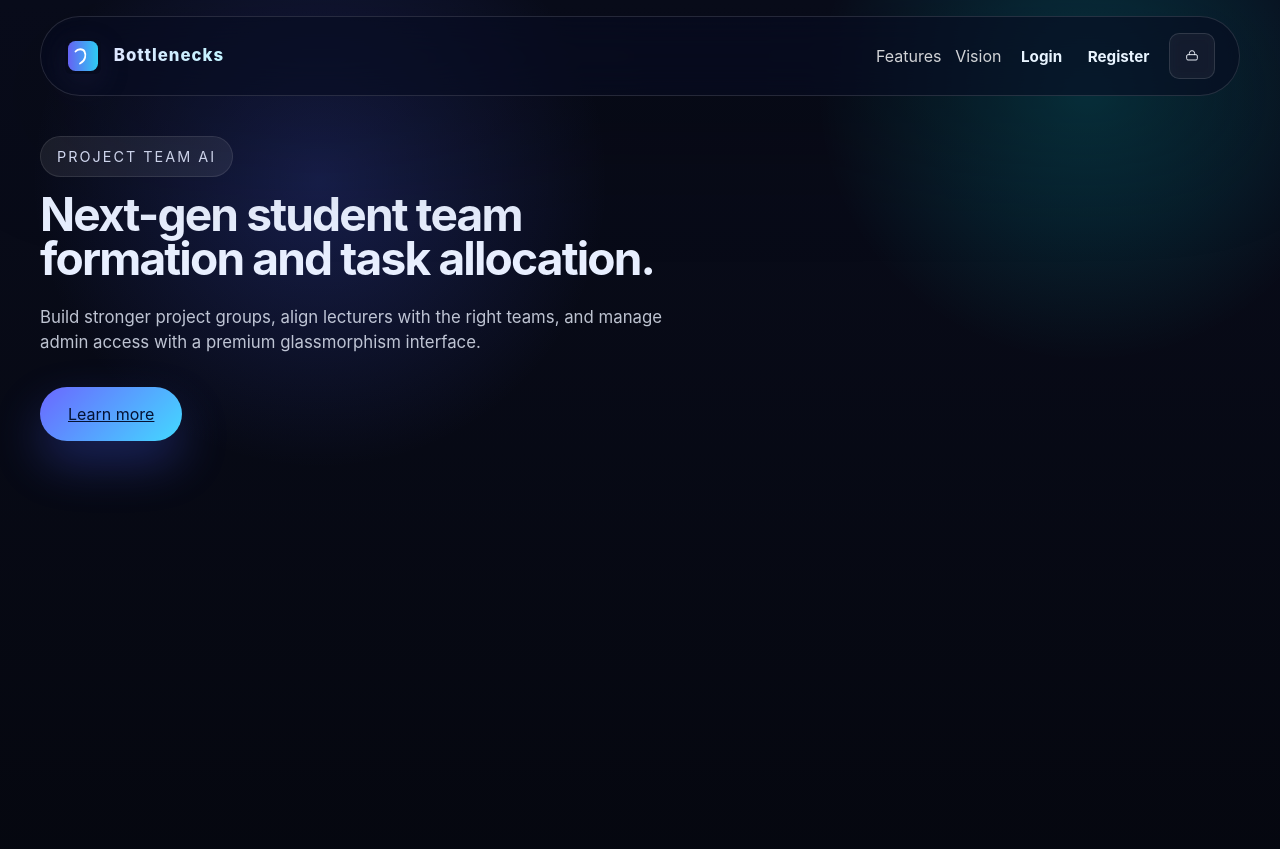
Test: App – student join project › cancels join project form
Click the button labelled "Login" at (1042, 56), box [1015, 43, 1068, 69]
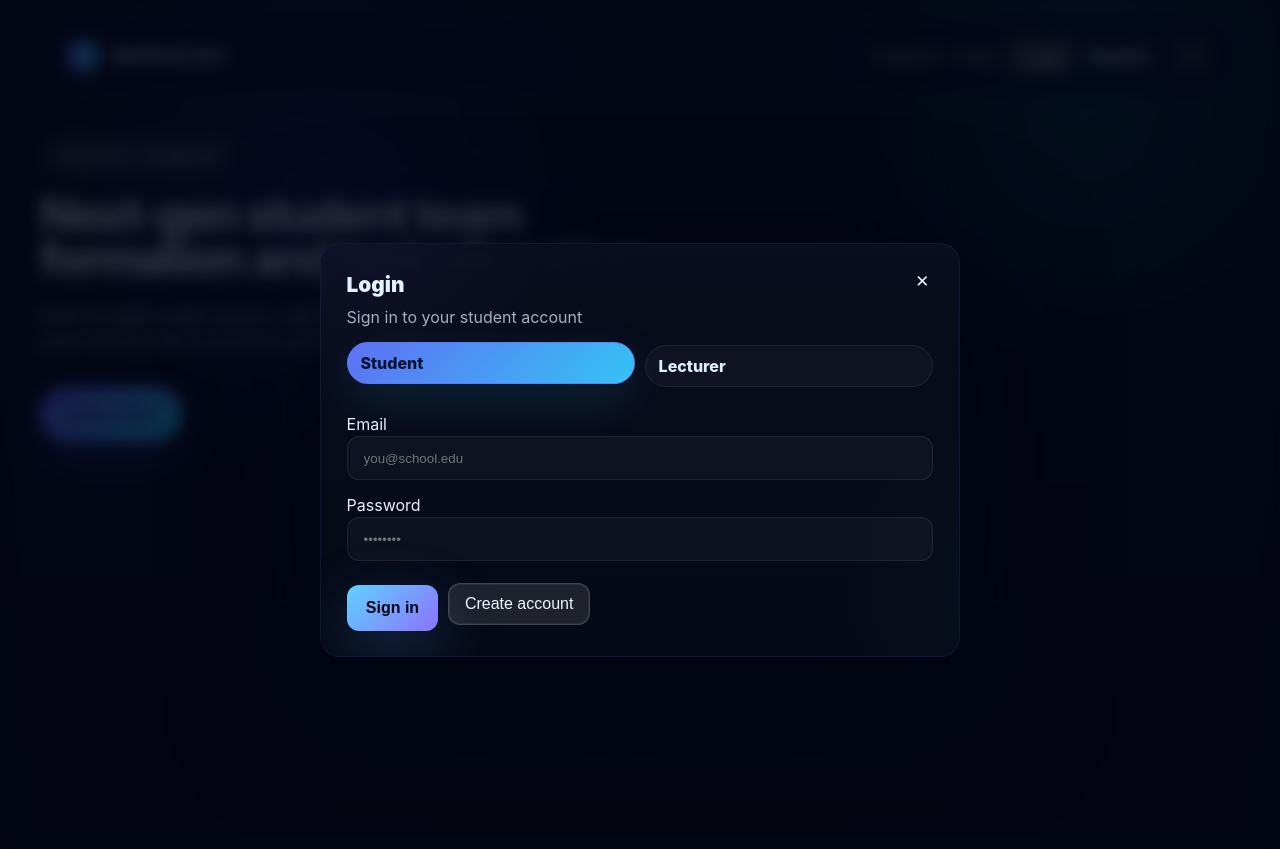
Type "student@school.edu" into the field with placeholder "you@school.edu" at (640, 458), box [347, 436, 933, 480]
Type "password123" into the password field with placeholder "••••••••" at (640, 539), box [347, 517, 933, 561]
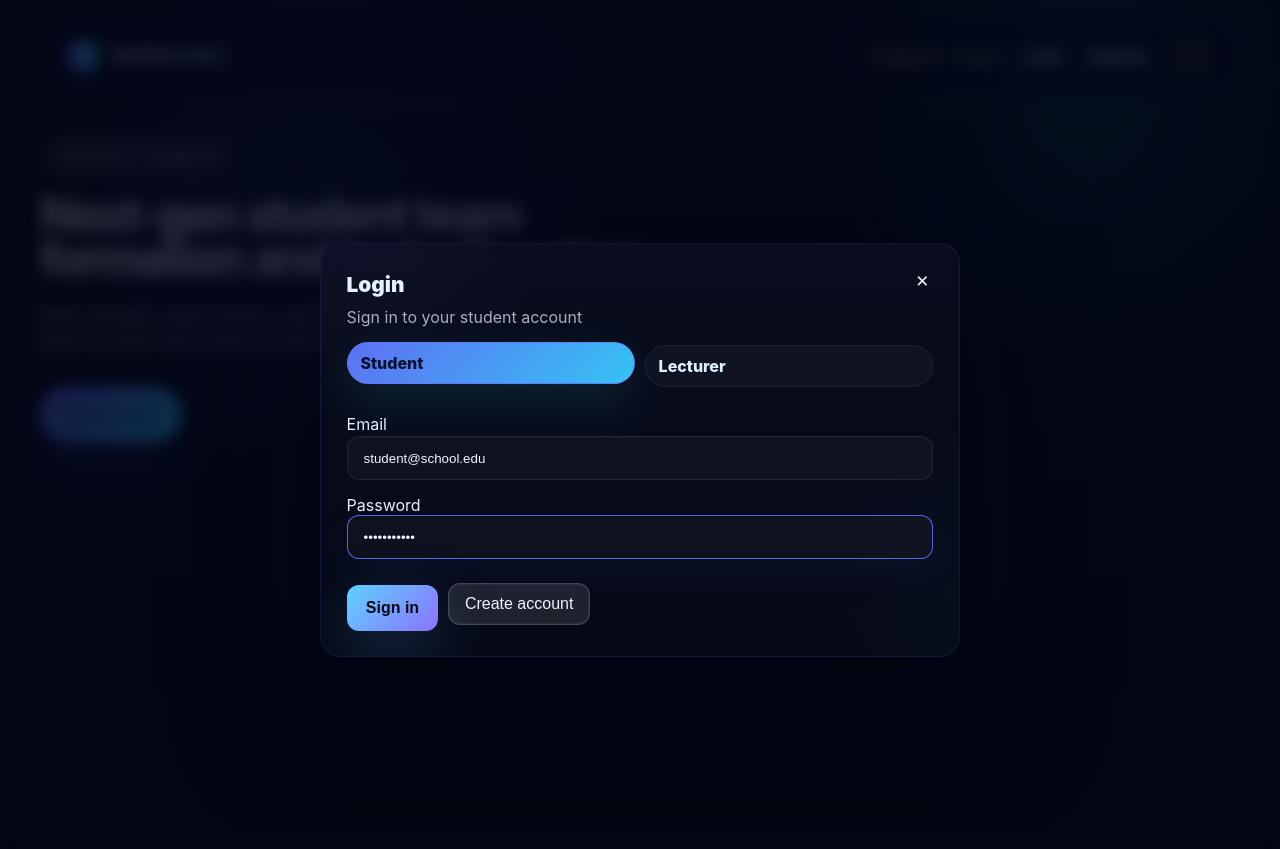
Click the button "Sign in" at (392, 608), box [347, 585, 438, 631]
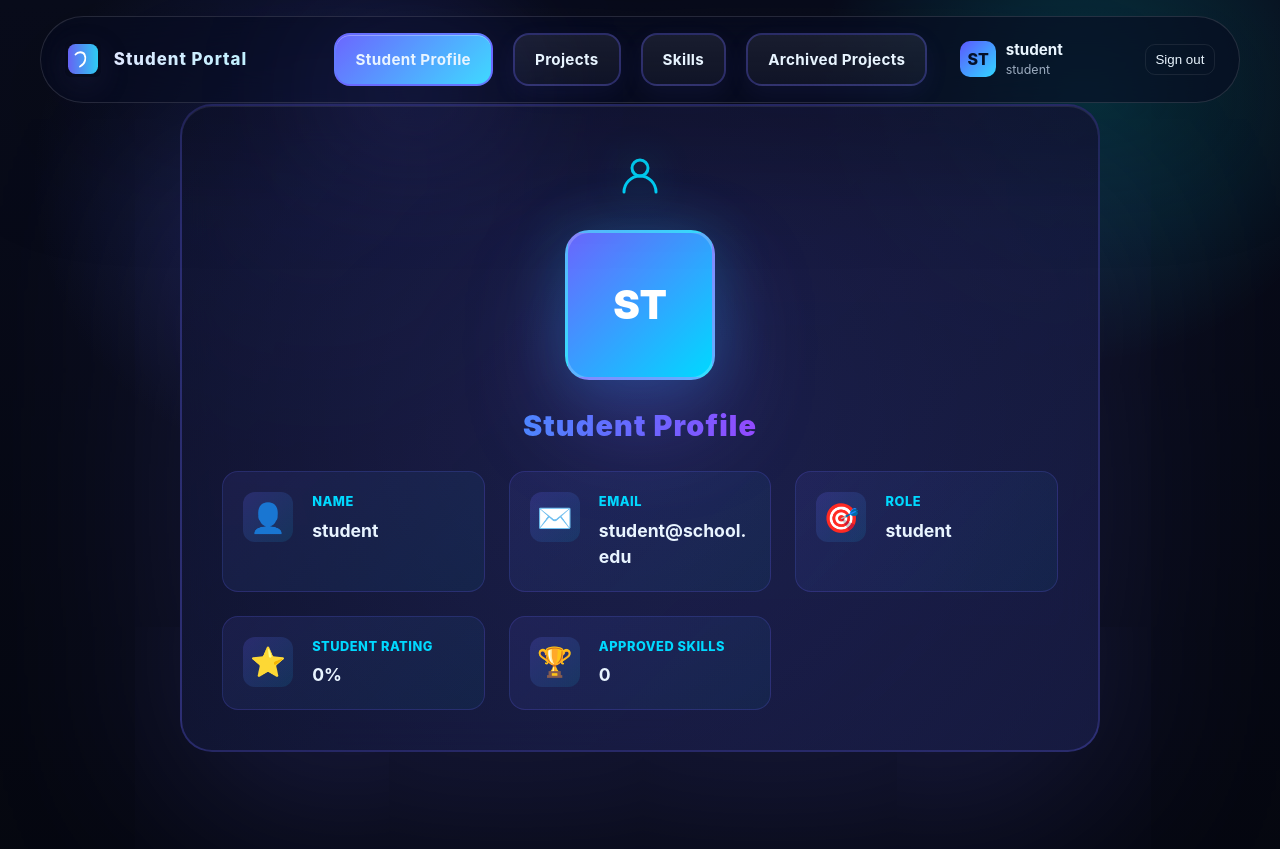
Click the button "Projects" at (567, 59), box [513, 33, 621, 86]
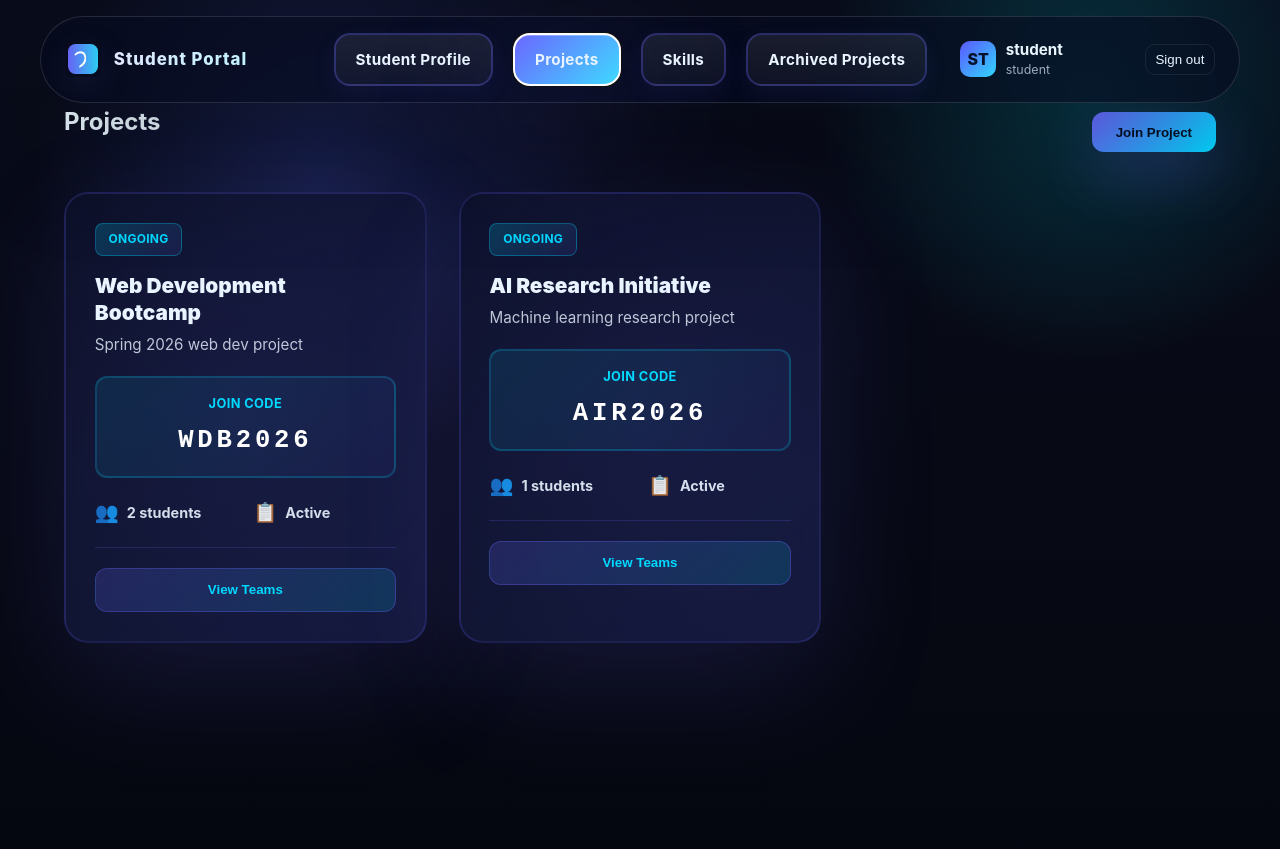
Click the button "Join Project" at (1154, 132), box [1092, 112, 1216, 152]
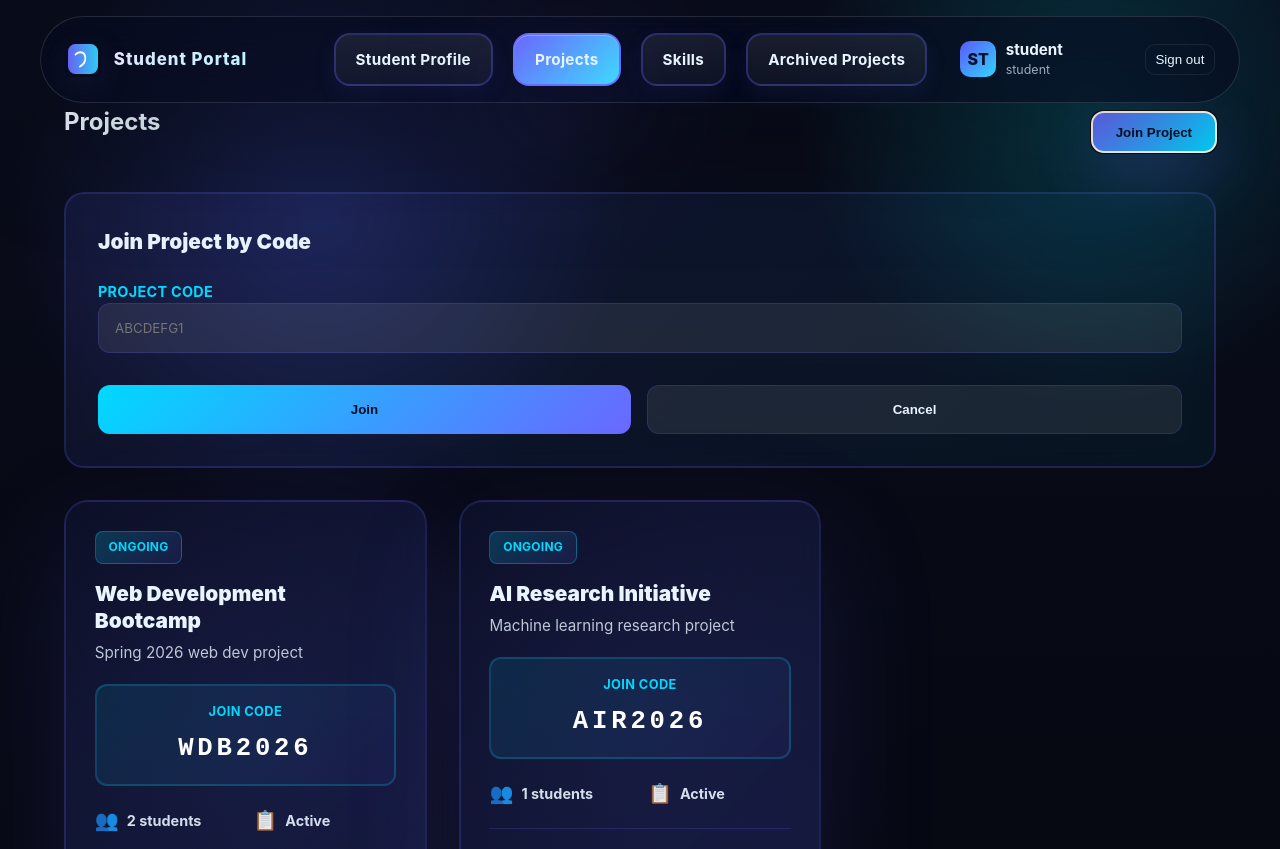
Now the heading "Join Project by Code" is shown, box [98, 229, 311, 254]
Click the button "Cancel" at (914, 409), box [647, 385, 1182, 434]
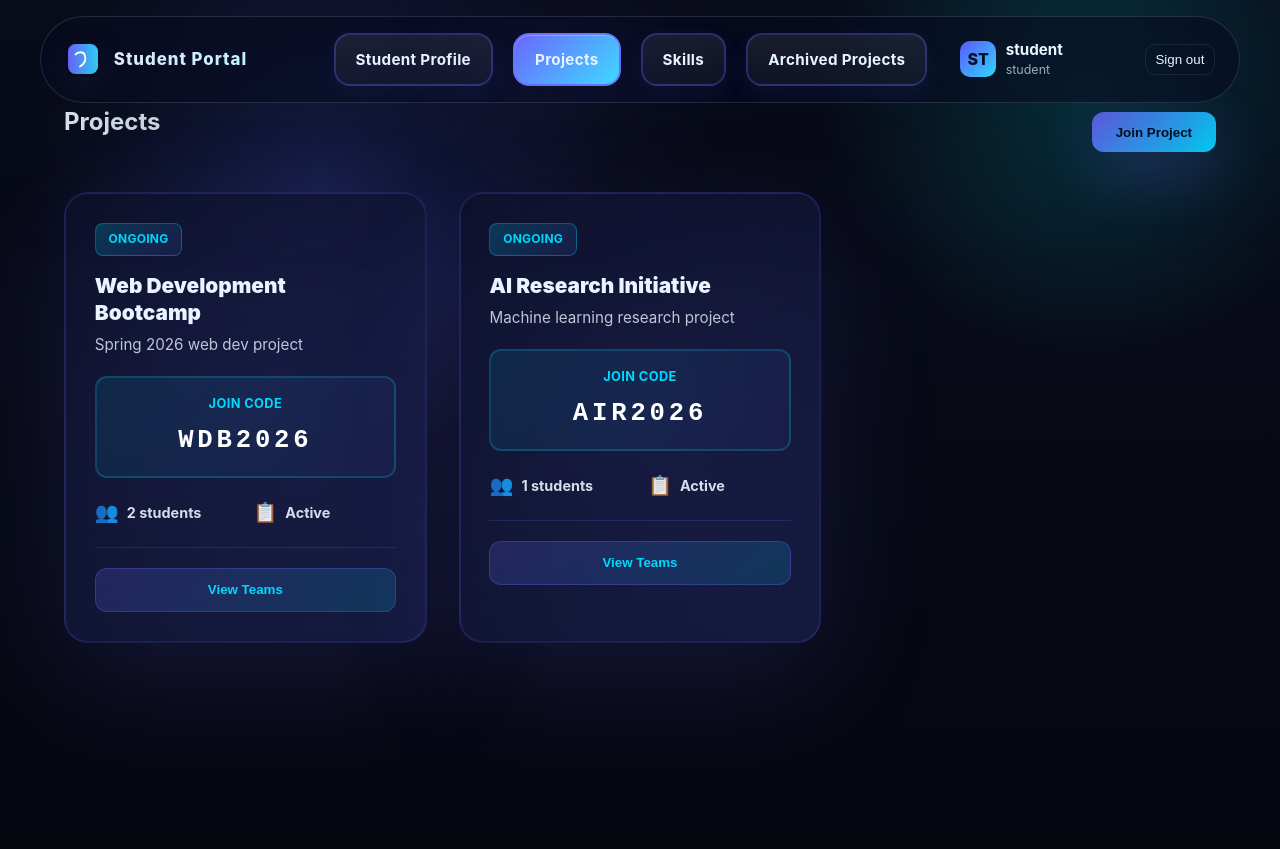
Now the heading "Join Project by Code" is gone
